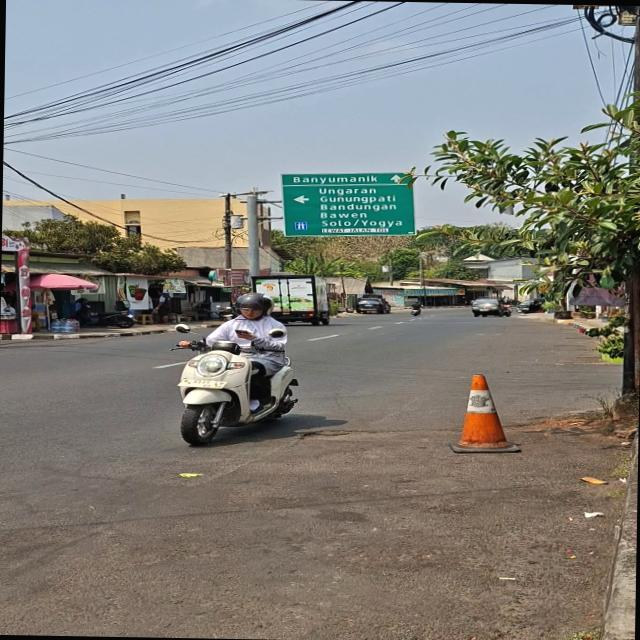WithHelmet: (175, 291, 289, 413), (411, 300, 424, 313)
